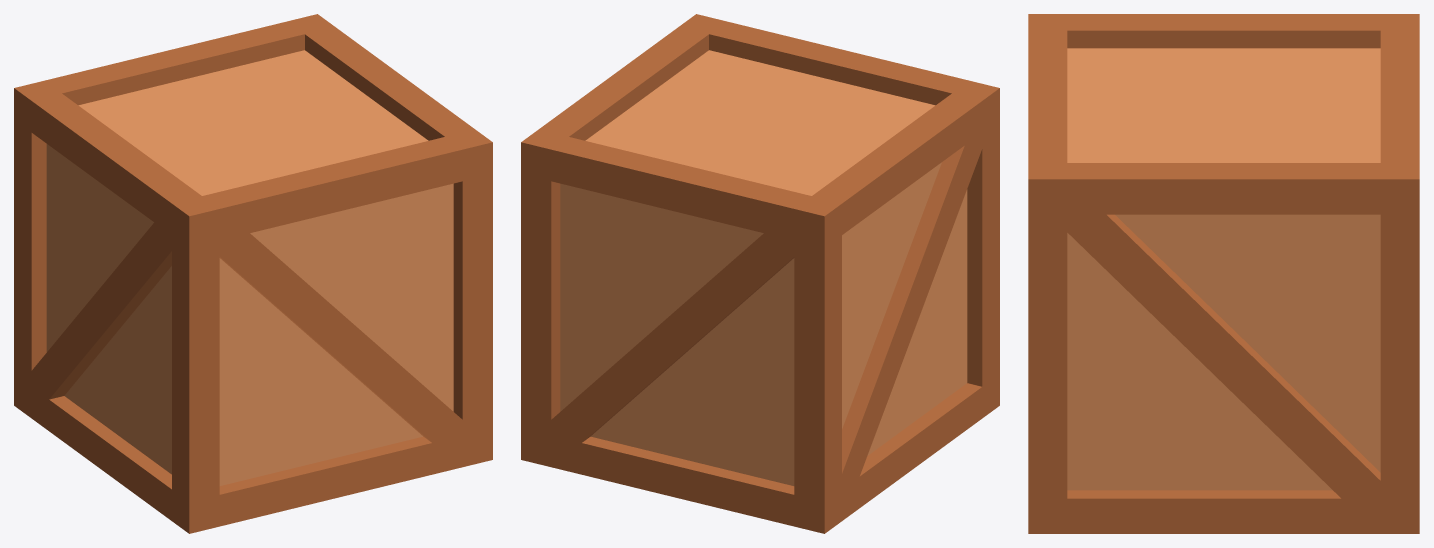
3 views of the same model, side by side, from view 1: azimuth 30°, elevation 25°; view 2: azimuth 150°, elevation 25°; view 3: azimuth 270°, elevation 25° (orthographic). The views are drawn at different scales.
Parts seen in each view (by area): view 1: obj_0.004; view 2: obj_0.004; view 3: obj_0.004.
Boxes of the visible parts, bbox=[...] form: obj_0.004: bbox=[14, 14, 492, 533]; obj_0.004: bbox=[521, 14, 999, 533]; obj_0.004: bbox=[1028, 14, 1419, 533].
Size of the model in its own units: 2000 by 2000 by 2000.
